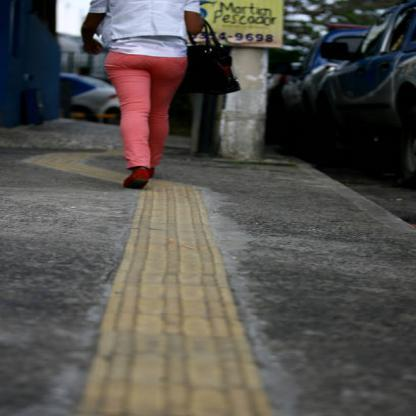podotacti: (73, 191, 278, 415)
